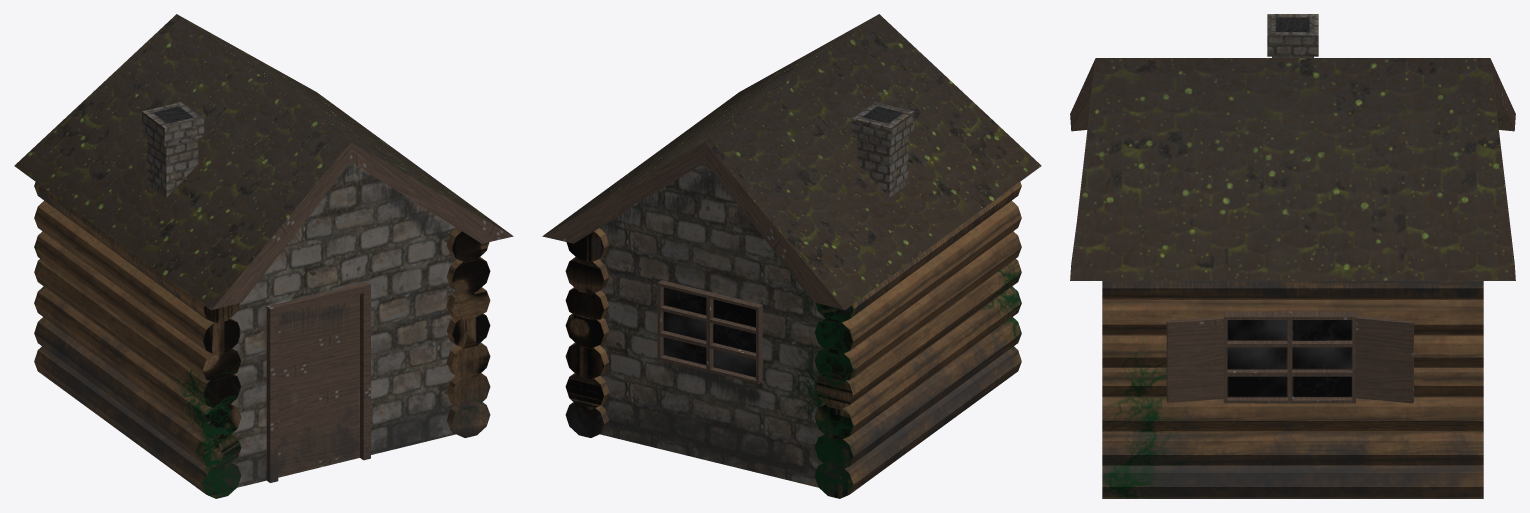
Rendered from House_1.glb.
The picture shows the model from 3 angles, left to right: view 1: azimuth 30°, elevation 25°; view 2: azimuth 150°, elevation 25°; view 3: azimuth 270°, elevation 25°; orthographic projection. The views are drawn at different scales.
Parts seen in each view (by area): view 1: House; view 2: House; view 3: House.
Boxes of the visible parts, x1,y1,x2,y2 form: House: (14, 14, 513, 498); House: (542, 14, 1041, 498); House: (1070, 14, 1515, 498).
Bounding box in the file's own units: 6.66 × 6.83 × 7.46.
Materials: 1 (1 with a texture image).
